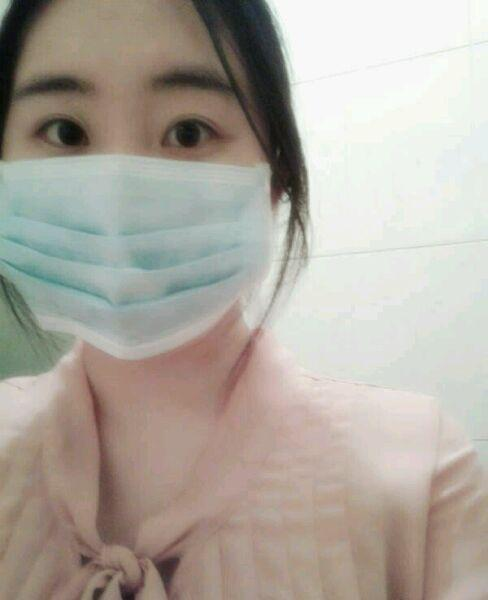OK: (4, 68, 280, 344)
